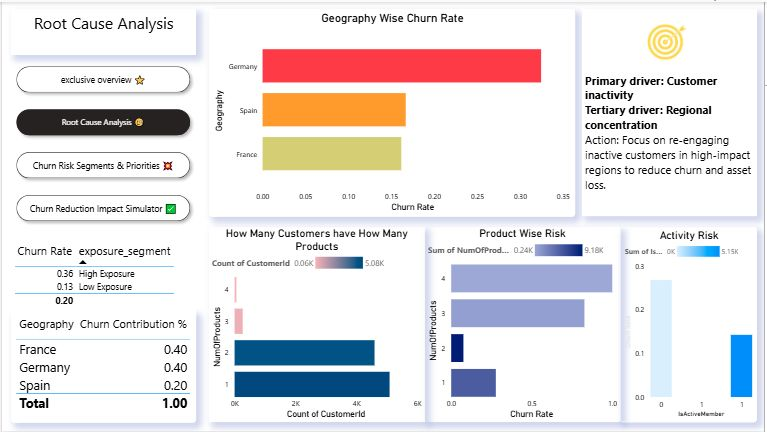

The page's visual inventory and layout, read from the dashboard file:
{"tool":"powerbi","page":{"name":"Root Cause Analysis 🧐","canvas":[1280,720],"ordinal":1},"visuals":[{"type":"barChart","title":"Product Wise Risk ","fields":{"Category":["churn.NumOfProducts"],"Y":["churn.Churn Rate"]},"box":[710.6,378,327.6,327.6],"z":0},{"type":"columnChart","title":"Activity Risk","fields":{"Category":["churn.IsActiveMember"],"Y":["churn.Churn Rate"]},"box":[1038.1,378,230.1,327.6],"z":1000},{"type":"barChart","title":"Geography Wise Churn Rate","fields":{"Category":["churn.Geography"],"Y":["churn.Churn Rate"]},"box":[348.5,11,614.8,348.5],"z":2000},{"type":"tableEx","fields":{"Values":["churn.Geography","churn.Churn Contribution %"]},"box":[15.1,519.1,310.8,188.1],"z":3000},{"type":"tableEx","fields":{"Values":["churn.Churn Rate","churn_behavior_segment.exposure_segment"]},"box":[15.1,399.8,310.8,131],"z":4000},{"type":"barChart","title":"How Many Customers have How Many Products","fields":{"Y":["CountNonNull(churn.CustomerId)"],"Category":["churn.NumOfProducts"]},"box":[348.5,378.7,362.3,328],"z":5000},{"type":"textbox","box":[15.1,11,311.5,76.8],"z":6000},{"type":"textbox","box":[974.3,11.8,294,347.7],"z":7000},{"type":"pageNavigator","box":[15.1,99.1,310.8,278.8],"z":8000},{"type":"image","box":[1029.7,11.8,169.7,110.9],"z":9000}]}

Visuals, with their boxes in screenshot pixels (x1, y1, x2, y2), scaled from the page's 1280x720 canvas onto the 767x432 screenshot:
"Product Wise Risk " barChart: {"left": 426, "top": 227, "right": 622, "bottom": 423}
"Activity Risk" columnChart: {"left": 622, "top": 227, "right": 760, "bottom": 423}
"Geography Wise Churn Rate" barChart: {"left": 209, "top": 7, "right": 577, "bottom": 216}
tableEx - churn.Geography x churn.Churn Contribution %: {"left": 9, "top": 311, "right": 195, "bottom": 424}
tableEx - churn.Churn Rate x churn_behavior_segment.exposure_segment: {"left": 9, "top": 240, "right": 195, "bottom": 318}
"How Many Customers have How Many Products" barChart: {"left": 209, "top": 227, "right": 426, "bottom": 424}
textbox: {"left": 9, "top": 7, "right": 196, "bottom": 53}
textbox: {"left": 584, "top": 7, "right": 760, "bottom": 216}
pageNavigator: {"left": 9, "top": 59, "right": 195, "bottom": 227}
image: {"left": 617, "top": 7, "right": 719, "bottom": 74}
